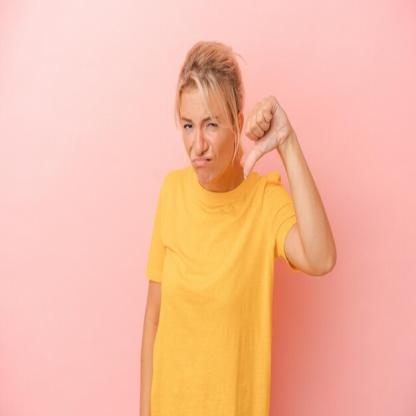thumb_down: (242, 94, 292, 180)
